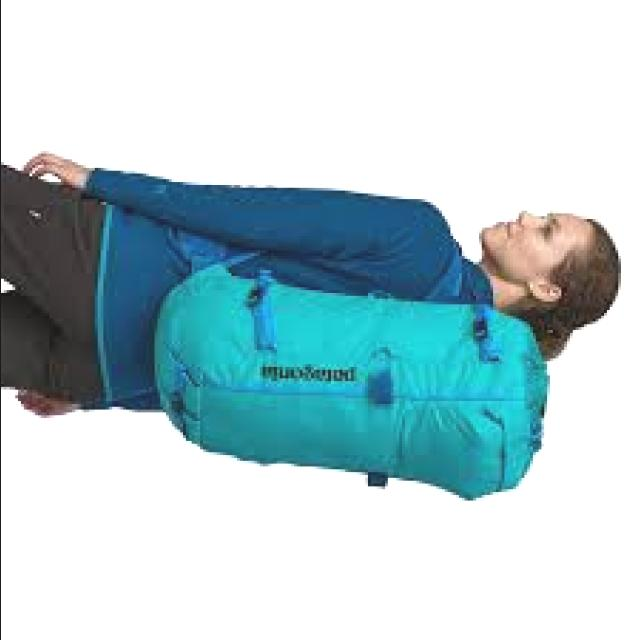backpack: (152, 246, 553, 502)
